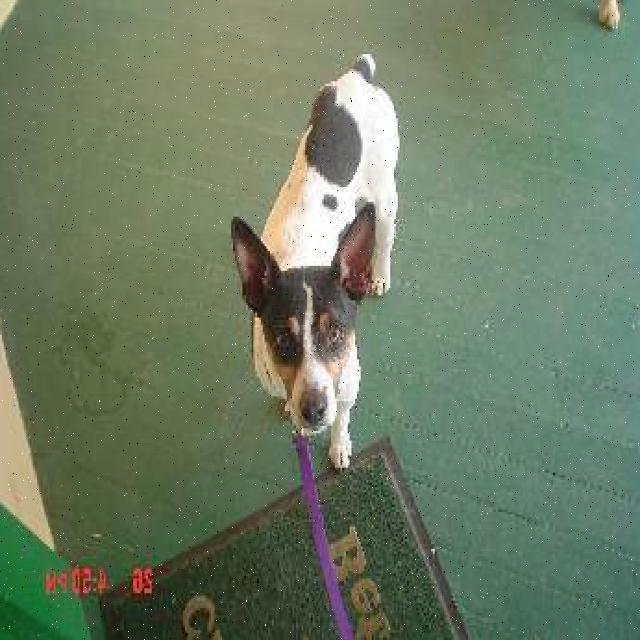Dog: (224, 188, 382, 443)
